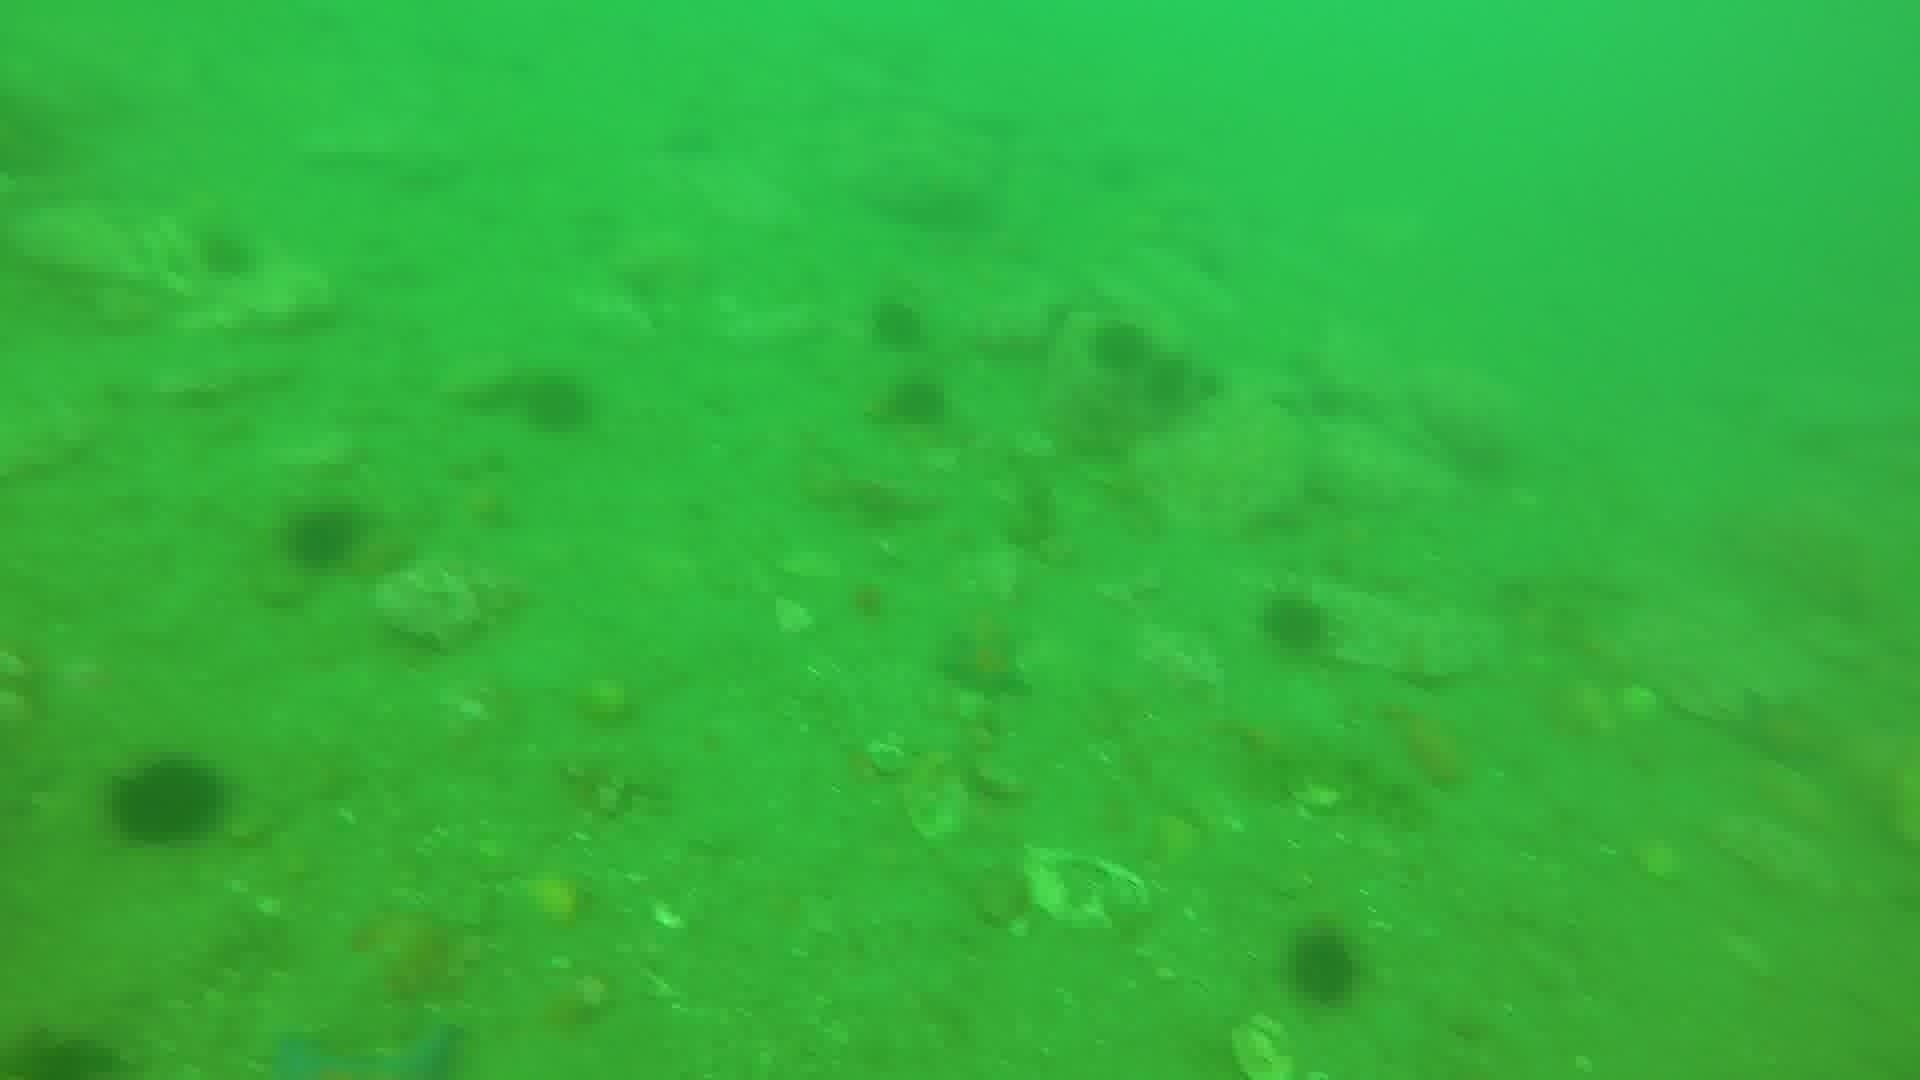echinus: (105, 754, 228, 851), (1280, 924, 1366, 1009), (7, 1018, 128, 1077), (280, 501, 367, 574), (1255, 589, 1335, 658), (517, 371, 596, 438), (1137, 349, 1209, 419), (1084, 316, 1156, 380), (878, 373, 953, 433), (864, 294, 931, 355), (193, 225, 261, 284)
holothurian: (1232, 721, 1435, 829)
starfish: (265, 1007, 464, 1075), (934, 621, 1034, 704)
